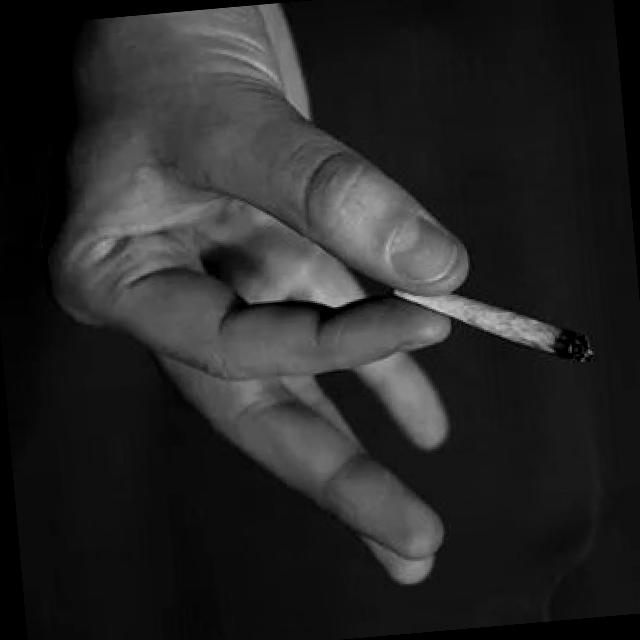cigarette: (382, 250, 606, 394)
